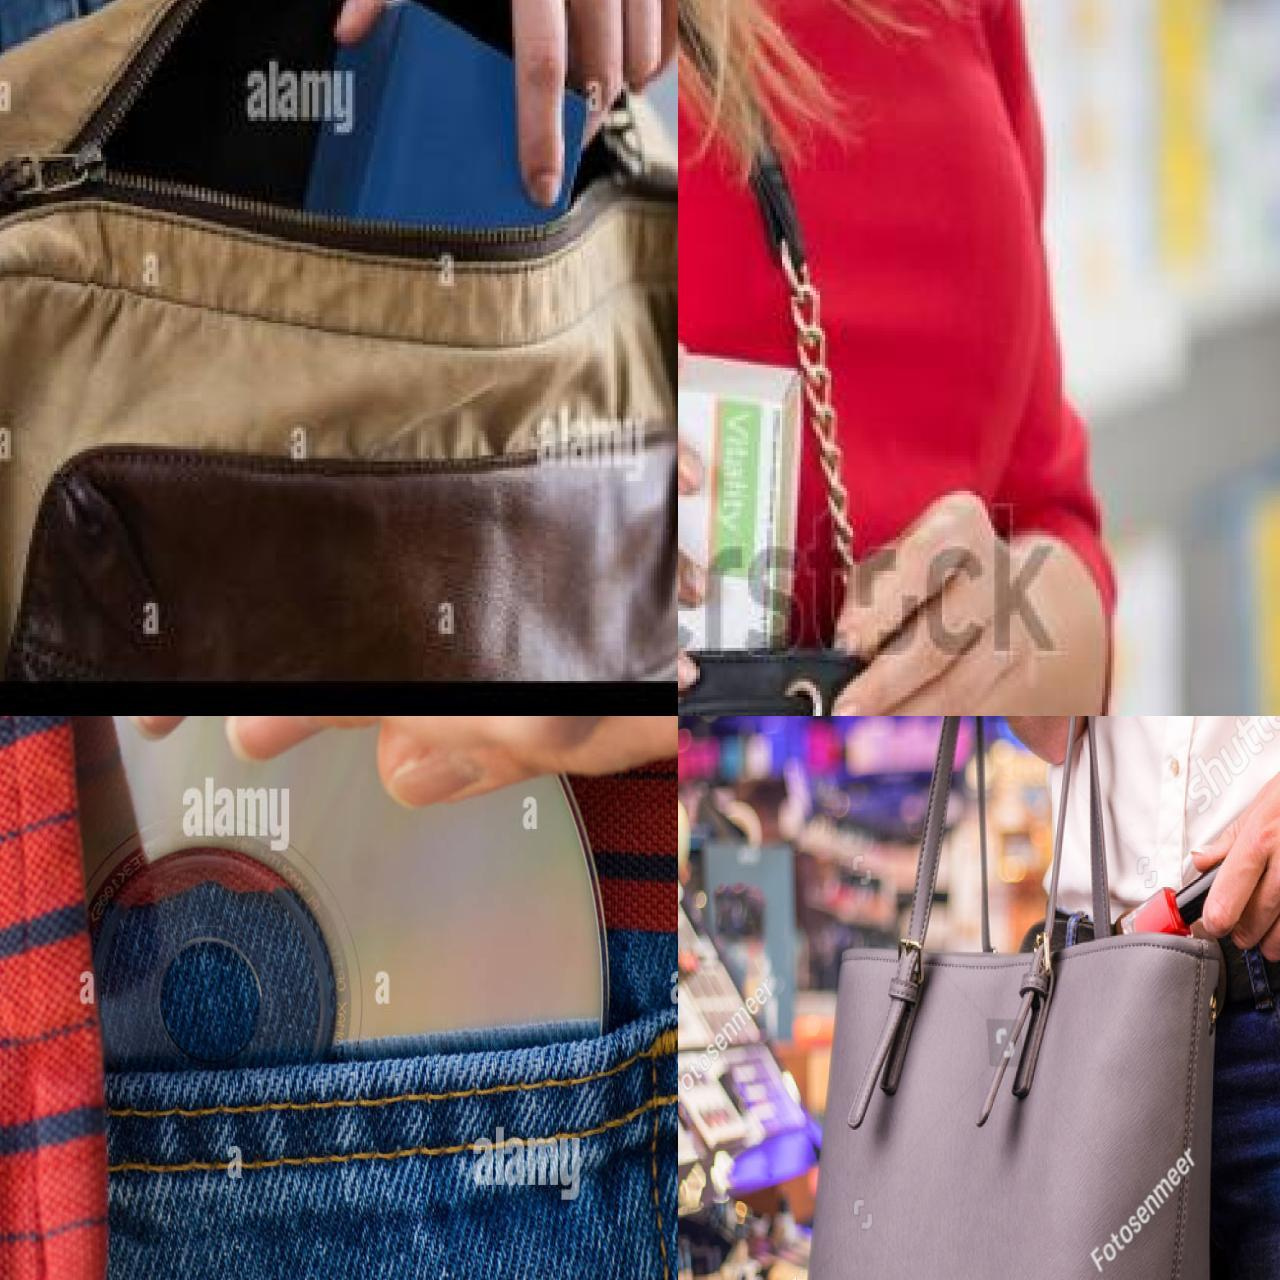Shoplifting: (30, 0, 678, 686), (0, 716, 678, 1280), (703, 716, 1280, 1280), (678, 135, 1071, 716)
